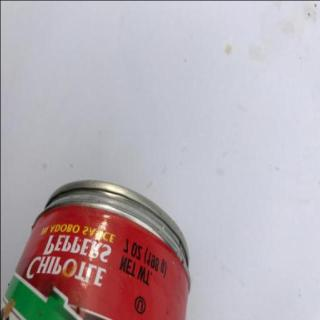Anorganik: (4, 168, 194, 320)
